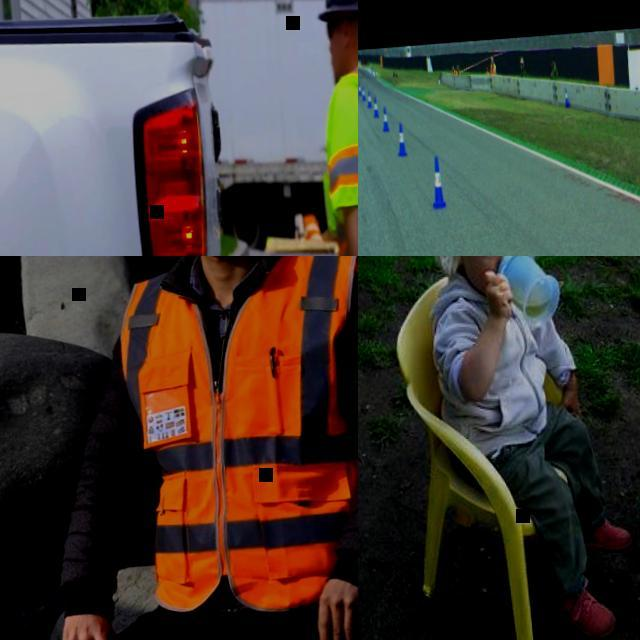vest: (121, 256, 358, 616), (313, 60, 358, 256), (490, 64, 494, 76), (486, 70, 489, 74), (452, 70, 454, 74)
